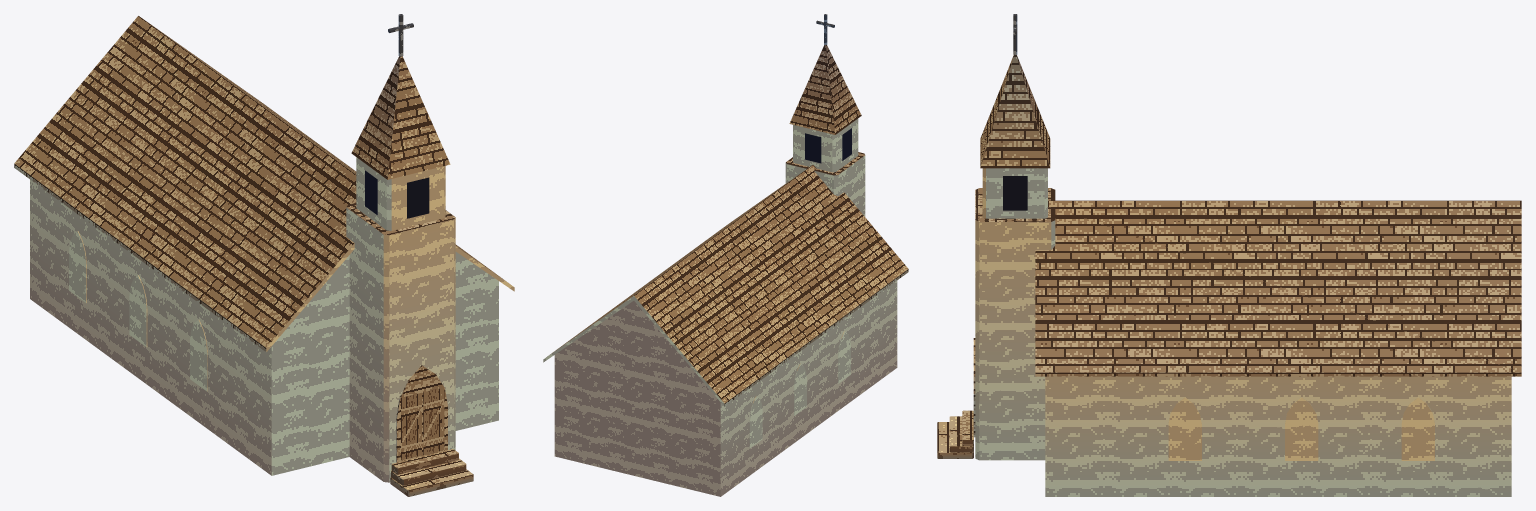
The model's file is wtown.church__wide.glb.
3 views of the same model, side by side, from view 1: azimuth 30°, elevation 25°; view 2: azimuth 150°, elevation 25°; view 3: azimuth 270°, elevation 25° (orthographic). The views are drawn at different scales.
Visible parts, largest first — view 1: kit_roof, kit_body, kit_tower, kit_spire, kit_card_panes, kit_belfry, kit_windows, kit_steps, kit_trim; view 2: kit_body, kit_roof, kit_spire, kit_tower, kit_belfry, kit_windows, kit_card_panes; view 3: kit_roof, kit_body, kit_tower, kit_windows, kit_spire, kit_belfry, kit_steps, kit_card_panes.
Boxes of the visible parts, x1,y1,x2,y2 form: kit_roof: (14,16,514,352); kit_body: (30,179,498,475); kit_tower: (346,203,455,482); kit_spire: (351,56,450,179); kit_card_panes: (365,170,444,460); kit_belfry: (356,157,445,230); kit_windows: (69,231,207,391); kit_steps: (390,449,473,496); kit_trim: (396,365,447,462); kit_body: (554,281,897,496); kit_roof: (543,165,908,406); kit_spire: (789,45,861,134); kit_tower: (785,152,865,216); kit_belfry: (793,118,858,172); kit_windows: (749,331,850,448); kit_card_panes: (805,128,851,163); kit_roof: (1035,200,1521,376); kit_body: (1045,376,1511,496); kit_tower: (975,188,1055,460); kit_windows: (1168,397,1434,460); kit_spire: (980,55,1050,168); kit_belfry: (982,168,1047,218); kit_steps: (937,410,973,458); kit_card_panes: (1003,176,1027,210).
Size of the model in its own units: 8.3 by 14.2 by 17.54.
Materials: 9 (9 with a texture image).
